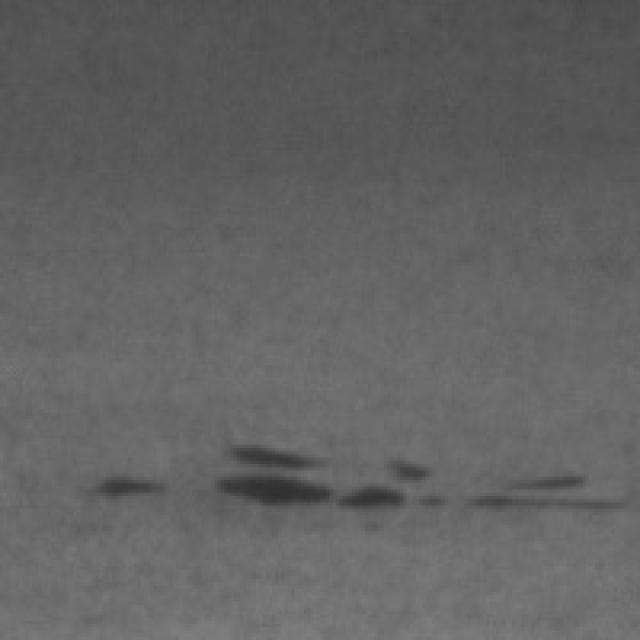inclusion: (205, 419, 630, 522), (70, 454, 164, 509)
